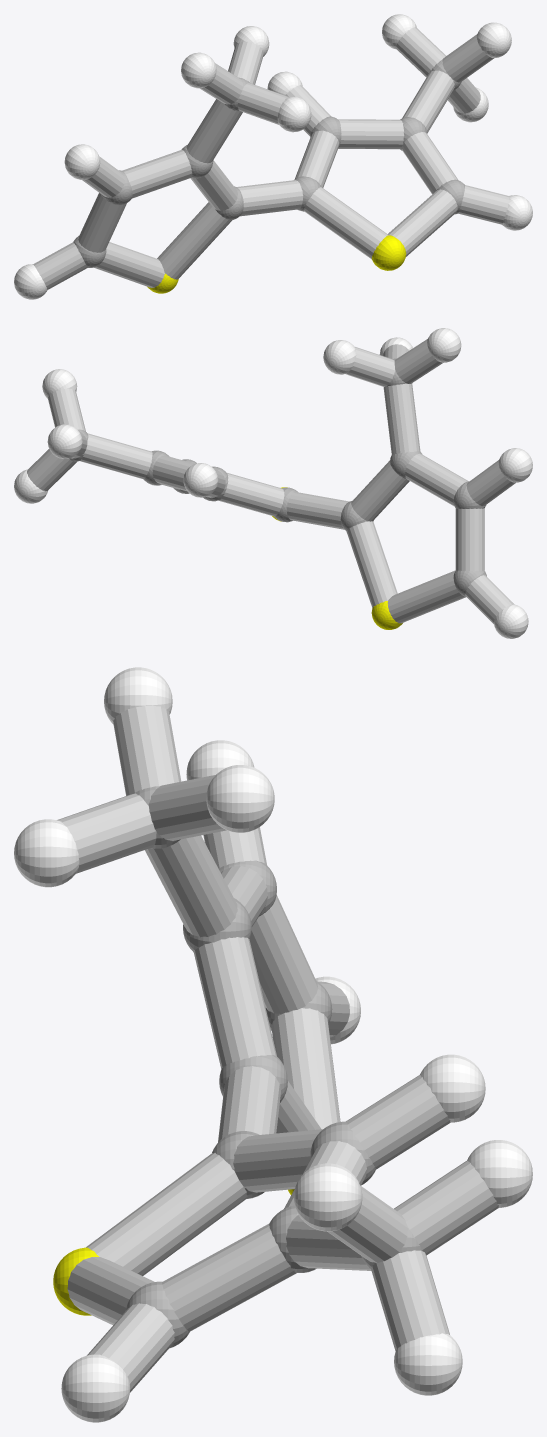
Rendered from Methylthiophene_Phi_5_Theta_100_Methylthiophene.glb.
3 renders of one model, top to bottom at view 1: azimuth 30°, elevation 25°; view 2: azimuth 150°, elevation 25°; view 3: azimuth 270°, elevation 25°, orthographic. The views are drawn at different scales.
Visible parts, largest first — view 1: grp7965, grp3621, grp1, grp7241; view 2: grp7965, grp3621, grp1, grp7241; view 3: grp7965, grp3621, grp1, grp7241.
Boxes of the visible parts, bbox=[...] form: grp7965: bbox=[33, 27, 509, 289]; grp3621: bbox=[14, 14, 532, 299]; grp1: bbox=[73, 59, 464, 267]; grp7241: bbox=[147, 235, 406, 293]; grp7965: bbox=[27, 339, 515, 623]; grp3621: bbox=[14, 328, 532, 638]; grp1: bbox=[69, 358, 486, 596]; grp7241: bbox=[272, 487, 402, 629]; grp7965: bbox=[57, 705, 498, 1392]; grp3621: bbox=[14, 667, 532, 1422]; grp1: bbox=[125, 786, 422, 1348]; grp7241: bbox=[53, 1189, 294, 1315].
Bounding box in the file's own units: 9.61 × 5.08 × 4.53.
